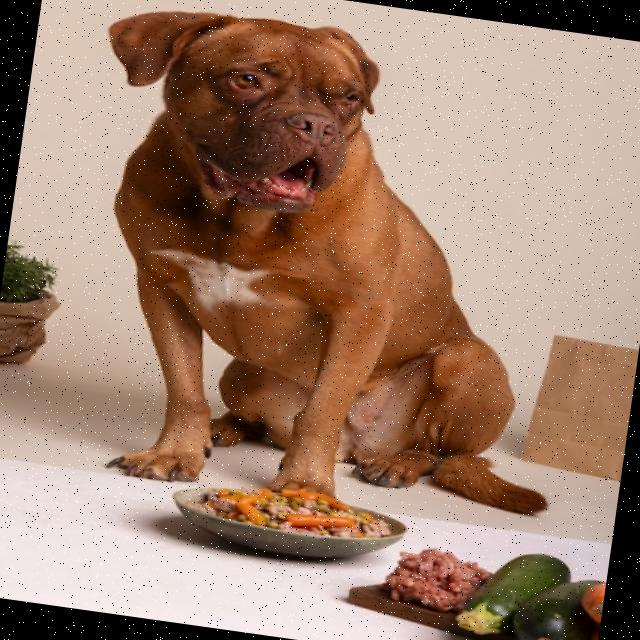Dog: (48, 0, 611, 545)
